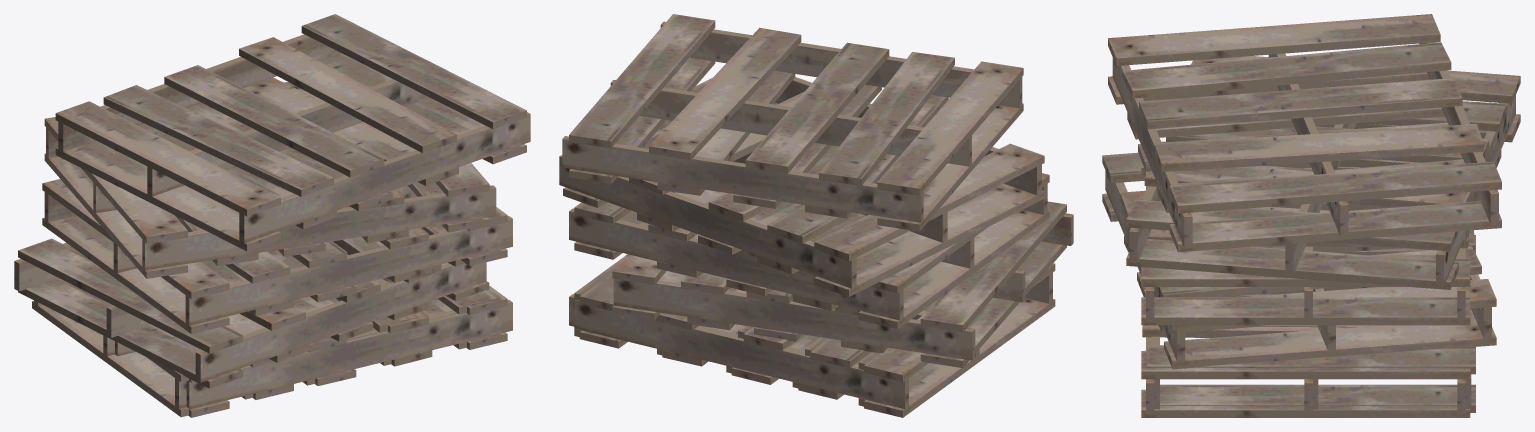
Rendered from Palets.fbx.
3 views of the same model, side by side, from view 1: azimuth 30°, elevation 25°; view 2: azimuth 150°, elevation 25°; view 3: azimuth 270°, elevation 25° (orthographic). The views are drawn at different scales.
Parts seen in each view (by area): view 1: Palet_stack, Palet_single; view 2: Palet_stack, Palet_single; view 3: Palet_stack, Palet_single.
Boxes of the visible parts, bbox=[...] form: Palet_stack: bbox=[14, 14, 530, 417]; Palet_single: bbox=[32, 290, 497, 417]; Palet_stack: bbox=[559, 14, 1073, 406]; Palet_single: bbox=[574, 263, 1055, 417]; Palet_stack: bbox=[1102, 14, 1520, 417]; Palet_single: bbox=[1147, 230, 1475, 412].
Bounding box in the file's own units: 221 × 108 × 177.
